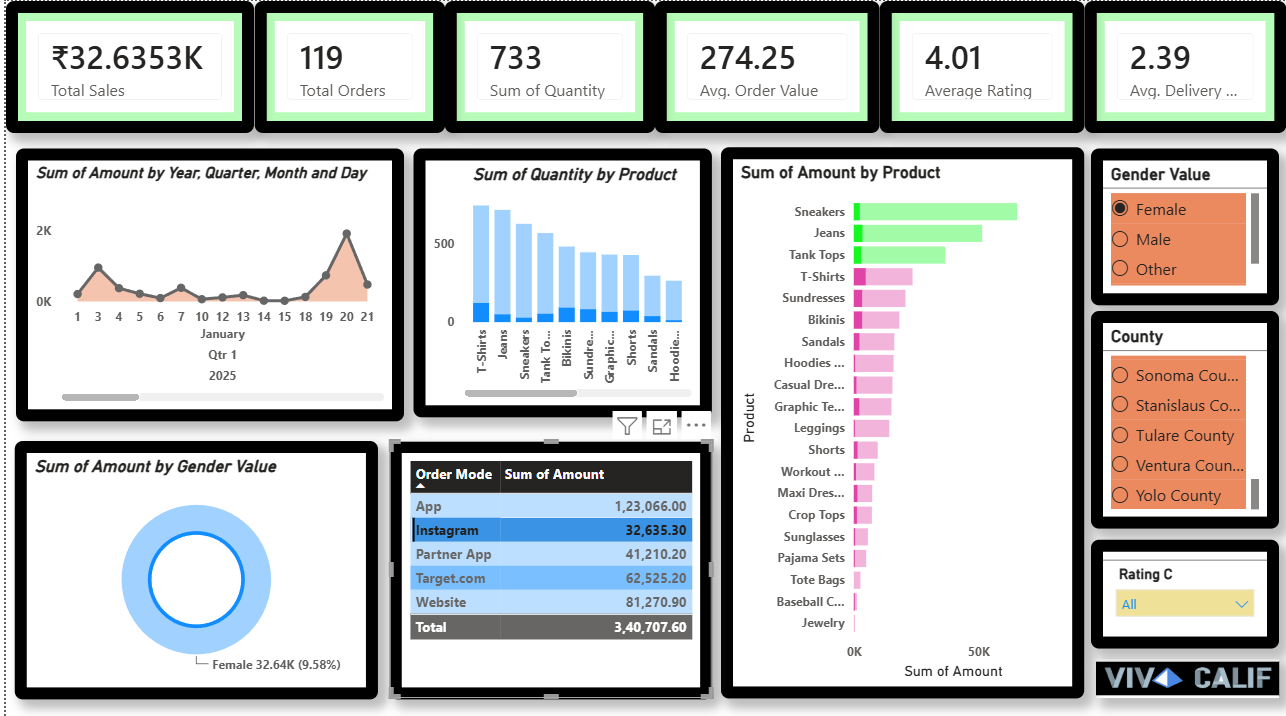

This screenshot's page, from the dashboard's own definition file:
{"tool":"powerbi","page":{"name":"Page 1","canvas":[1280,720],"ordinal":0},"visuals":[{"type":"cardVisual","fields":{"Data":["Data.Total Sales"]},"box":[0,0,248.3,131.7],"z":0},{"type":"cardVisual","fields":{"Data":["Data.Total Orders"]},"box":[248.3,0,190,131.7],"z":1000},{"type":"cardVisual","fields":{"Data":["Sum(Data.Quantity)"]},"box":[438.3,0,210,131.7],"z":2000},{"type":"cardVisual","fields":{"Data":["Data.Average Order Value"]},"box":[648.3,0,225,131.7],"z":3000},{"type":"cardVisual","fields":{"Data":["Data.Average Rating"]},"box":[873.3,0,205,131.7],"z":4000},{"type":"cardVisual","fields":{"Data":["Avg(Data.Days to Deliver)"]},"box":[1078.3,0,201.7,131.7],"z":5000},{"type":"lineChart","fields":{"Category":["Data.Order Date.Variation.Date Hierarchy.Year","Data.Order Date.Variation.Date Hierarchy.Quarter","Data.Order Date.Variation.Date Hierarchy.Month","Data.Order Date.Variation.Date Hierarchy.Day"],"Y":["Sum(Data.Amount)"]},"box":[10,147,388,272.6],"z":6000},{"type":"donutChart","fields":{"Category":["Data.Gender Value"],"Y":["Sum(Data.Amount)"]},"box":[8.6,440.2,363.2,258],"z":7000},{"type":"clusteredColumnChart","fields":{"Category":["Data.Product"],"Y":["Sum(Data.Quantity)"]},"box":[408,147,298,268.6],"z":8000},{"type":"clusteredBarChart","fields":{"Category":["Data.Product"],"Y":["Sum(Data.Amount)"]},"box":[715.4,146.7,363.2,551.5],"z":9000},{"type":"tableEx","fields":{"Values":["Data.Order Mode","Sum(Data.Amount)"]},"box":[384,440,322,258],"z":10000},{"type":"listSlicer","fields":{"Values":["Data.Gender Value"]},"box":[1085,147,188,157],"z":11000},{"type":"listSlicer","fields":{"Values":["Data.County"]},"box":[1084.7,310.6,188.3,217.7],"z":12000},{"type":"slicer","fields":{"Values":["Data.Rating C"]},"box":[1084.7,539.3,188.3,108.8],"z":12001},{"type":"image","box":[1089.5,657.9,183.4,40.4],"z":12003}]}

Visuals, with their boxes in screenshot pixels (x1, y1, x2, y2), scaled from the page's 1280x720 canvas onto the 1286x716 screenshot:
cardVisual - Data.Total Sales: (0,0,249,131)
cardVisual - Data.Total Orders: (249,0,440,131)
cardVisual - Sum(Data.Quantity): (440,0,651,131)
cardVisual - Data.Average Order Value: (651,0,877,131)
cardVisual - Data.Average Rating: (877,0,1083,131)
cardVisual - Avg(Data.Days to Deliver): (1083,0,1285,131)
lineChart - Data.Order Date.Variation.Date Hierarchy.Year x Data.Order Date.Variation.Date Hierarchy.Quarter: (10,146,400,417)
donutChart - Data.Gender Value x Sum(Data.Amount): (9,438,374,694)
clusteredColumnChart - Data.Product x Sum(Data.Quantity): (410,146,709,413)
clusteredBarChart - Data.Product x Sum(Data.Amount): (719,146,1084,694)
tableEx - Data.Order Mode x Sum(Data.Amount): (386,438,709,694)
listSlicer - Data.Gender Value: (1090,146,1279,302)
listSlicer - Data.County: (1090,309,1279,525)
slicer - Data.Rating C: (1090,536,1279,644)
image: (1095,654,1279,694)
